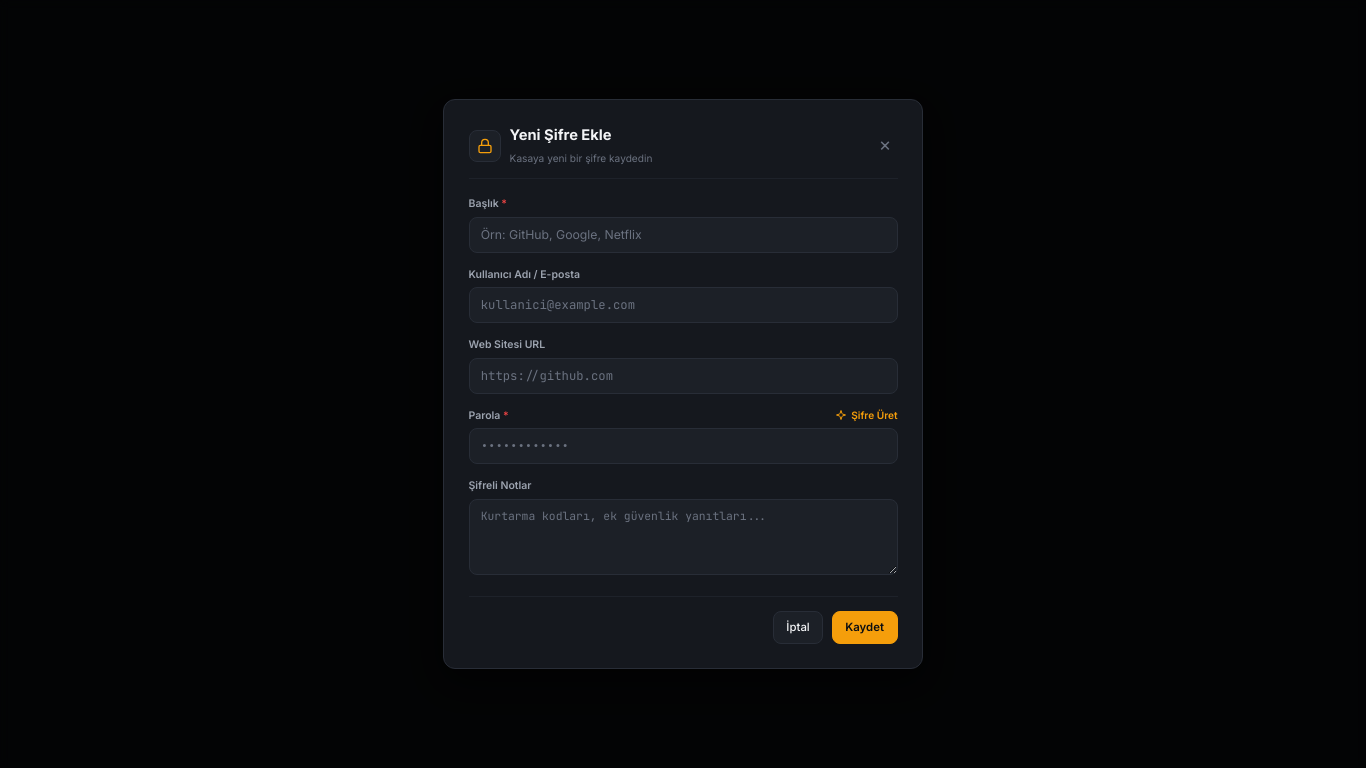
Test: PasswordFormModal Component › toggles password generator panel and applies generated password
The image size is (1366, 768).
Click the button with aria-label "şifre oluşturucuyu aç" at (866, 415), box [835,408,898,423]
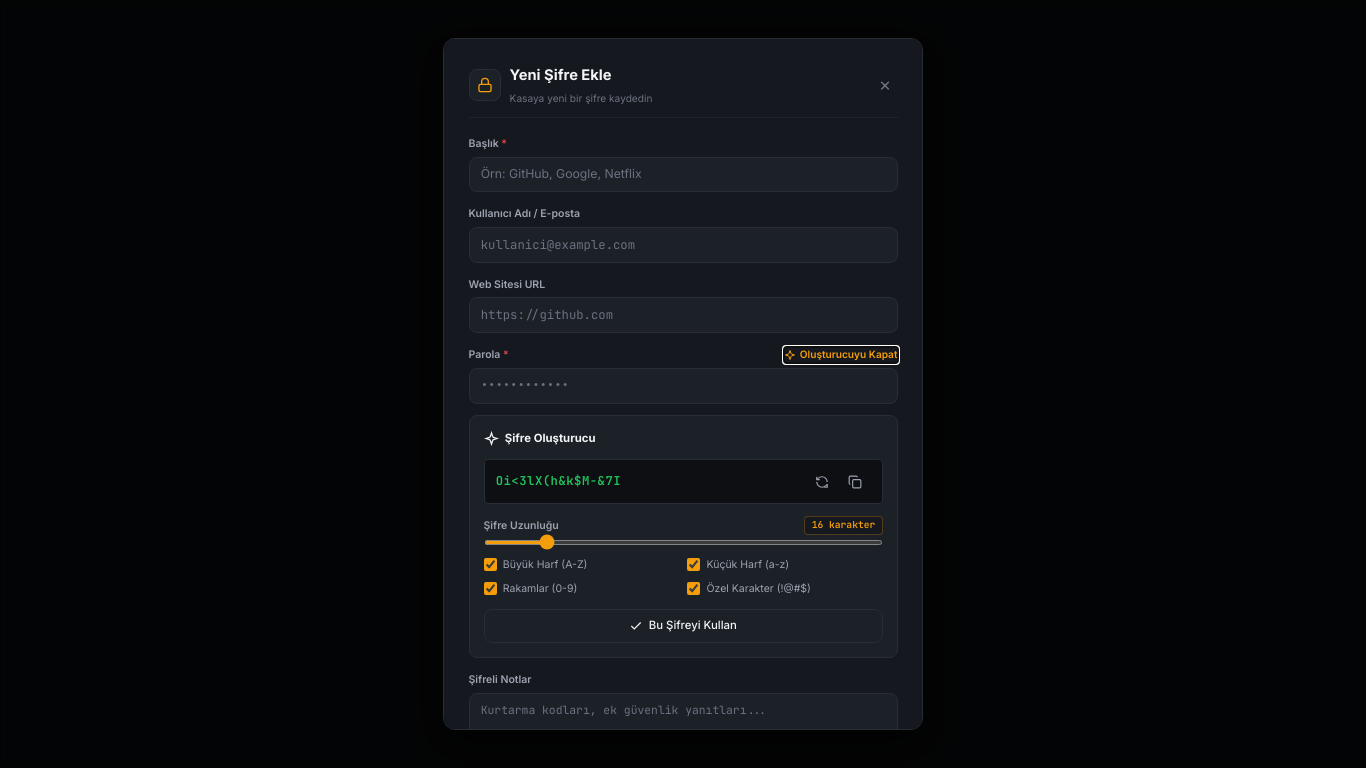
expect the element named "Şifre Oluşturucu Paneli" is shown: met, box [468,415,898,658]
Click Use This Password
Click the button "Bu Şifreyi Kullan" at (683, 626), box [484,609,882,643]
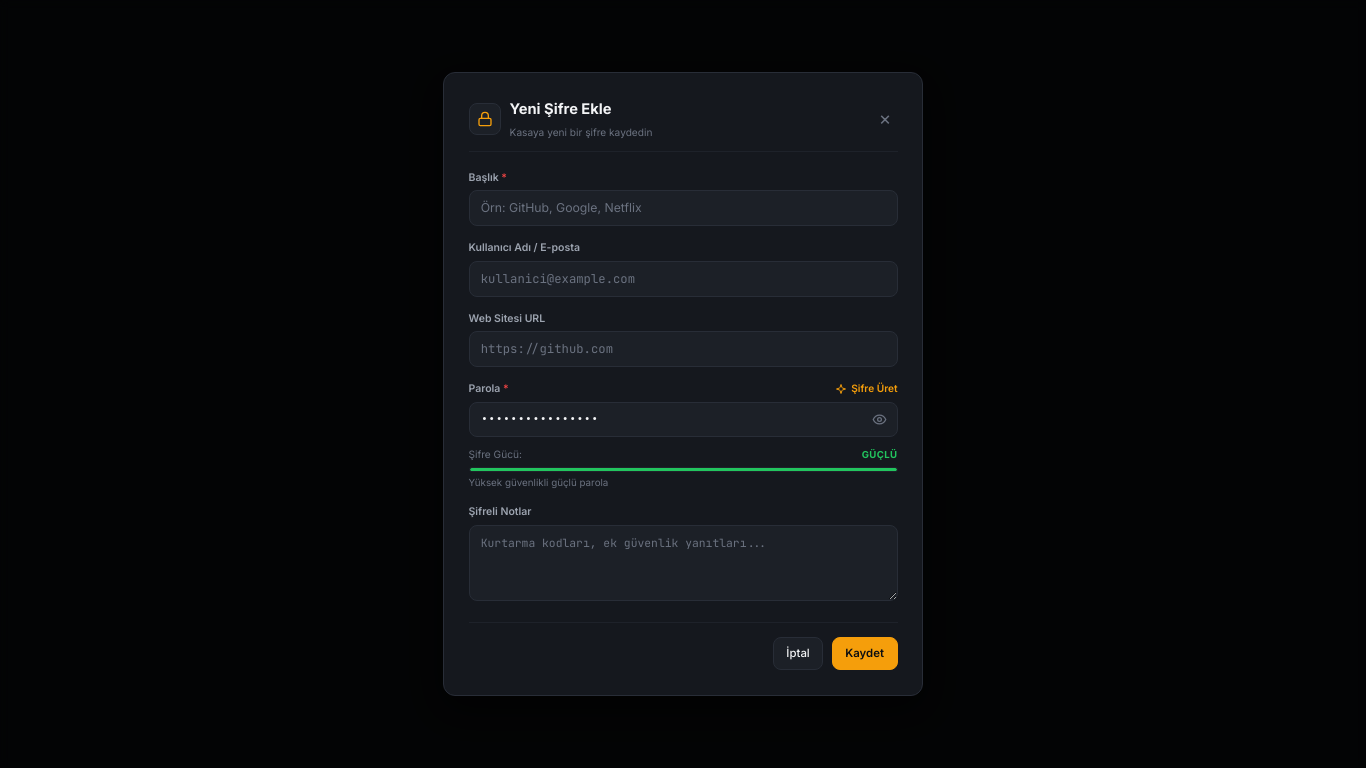
expect the password field labelled "Parola *" is not empty: met, box [468,402,898,438]
